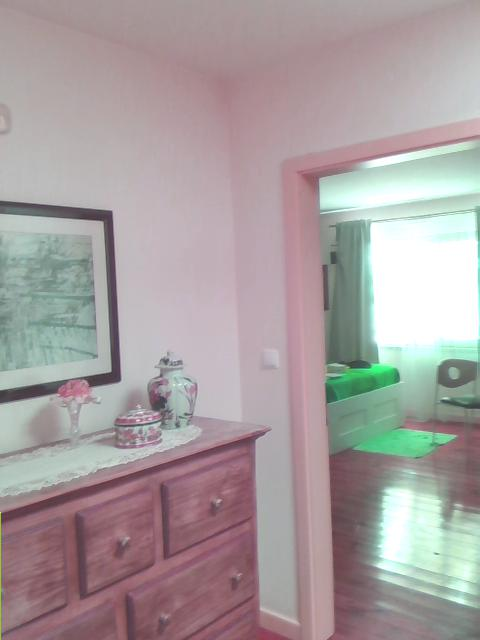open_door: (280, 113, 479, 639)
